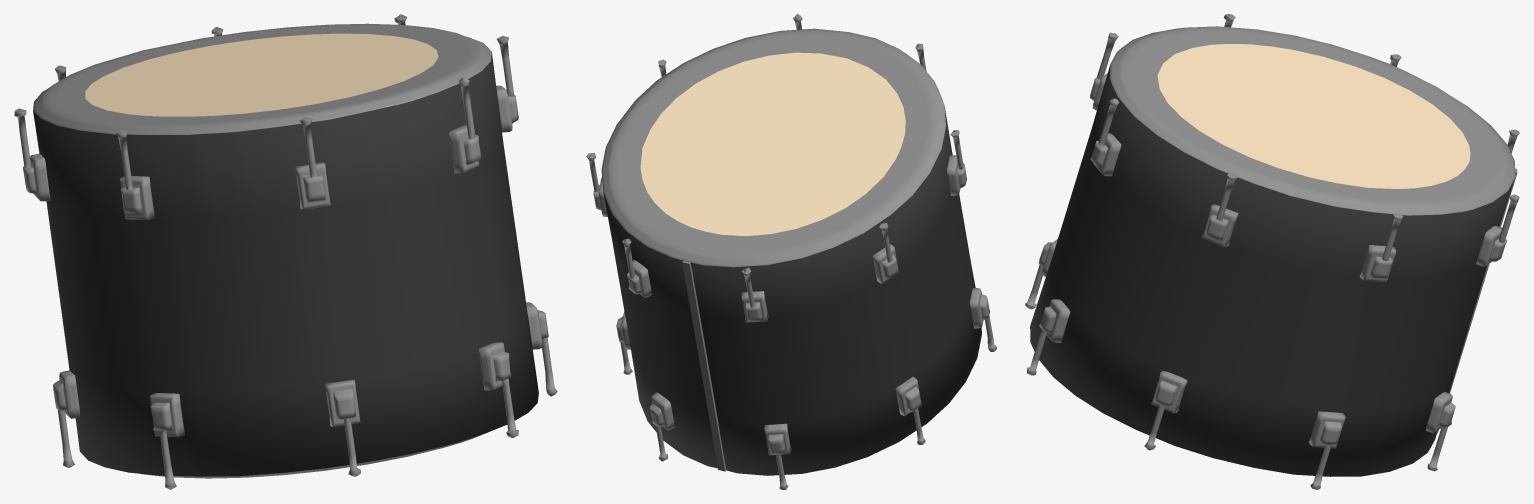
Rendered from SM_DrumKit_V1_Bass_tom_1.FBX.
3 renders of one model, left to right at view 1: azimuth 30°, elevation 25°; view 2: azimuth 150°, elevation 25°; view 3: azimuth 270°, elevation 25°, orthographic. The views are drawn at different scales.
Visible parts, largest first — view 1: SM_DrumKit_V1_Bass_tom_1; view 2: SM_DrumKit_V1_Bass_tom_1; view 3: SM_DrumKit_V1_Bass_tom_1.
Part boxes in pixels (left/top/right/bottom): SM_DrumKit_V1_Bass_tom_1: left=14, top=14, right=557, bottom=489; SM_DrumKit_V1_Bass_tom_1: left=586, top=14, right=996, bottom=489; SM_DrumKit_V1_Bass_tom_1: left=1025, top=14, right=1519, bottom=489.
Size of the model in its own units: 28.67 by 36.31 by 30.51.
